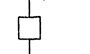Cable Termination Box: (15, 13, 49, 45)
